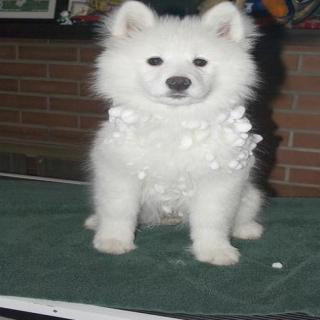dog: (81, 2, 270, 116)
nose: (163, 74, 193, 92)
